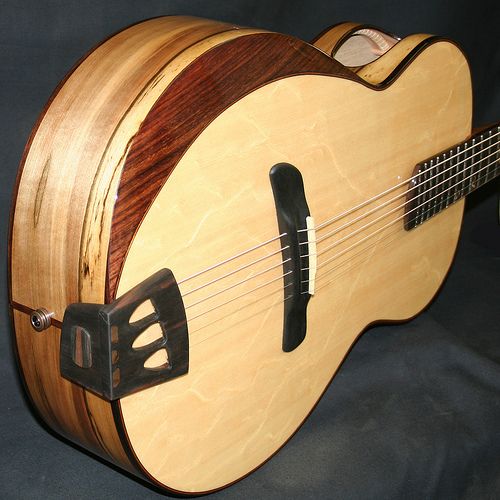guitar: (8, 12, 500, 493)
